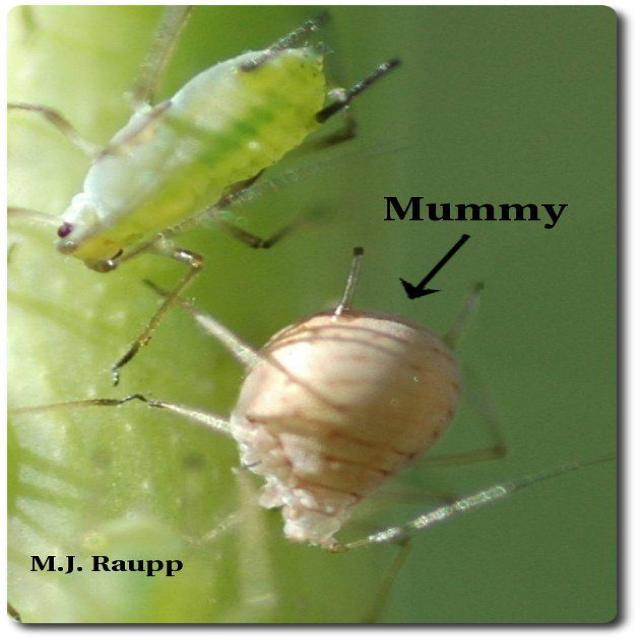Aphids: (158, 260, 561, 566), (33, 15, 389, 328)
